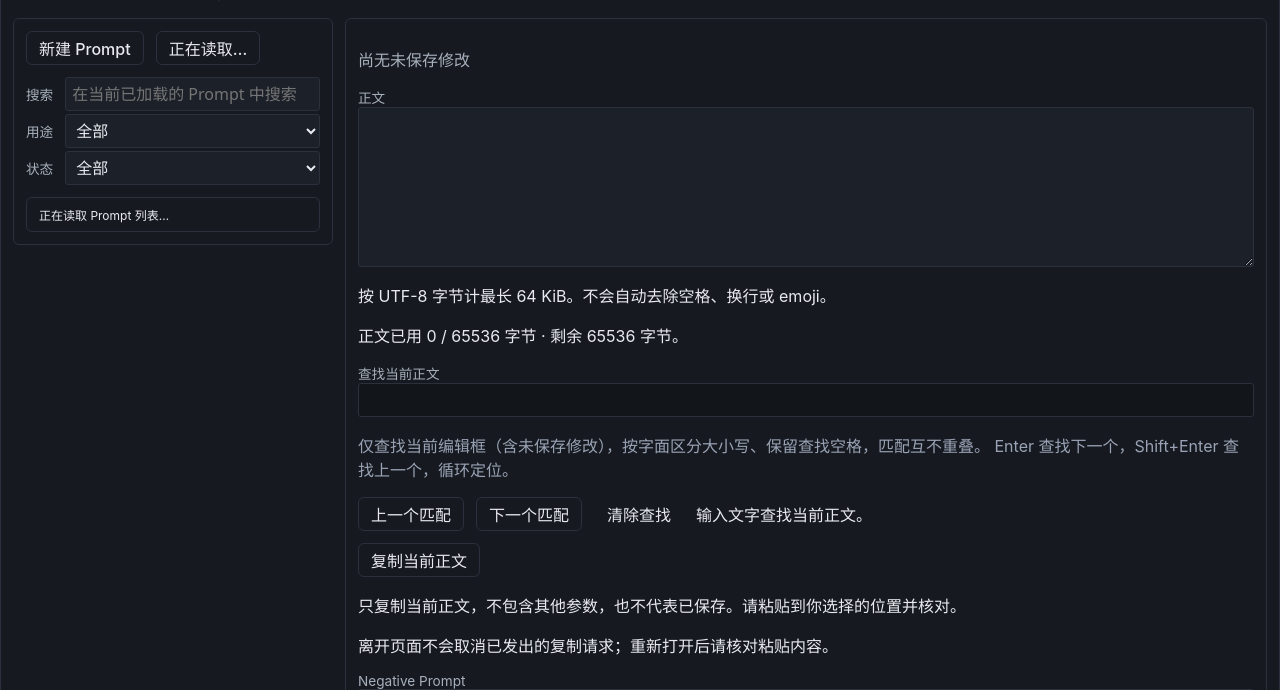
Test case: P0-C a read must not cancel a real save receipt › keeps the receipt when the user refreshes the library mid-save
Click the button "新建 Prompt" at [85, 48], box [26, 31, 144, 65]
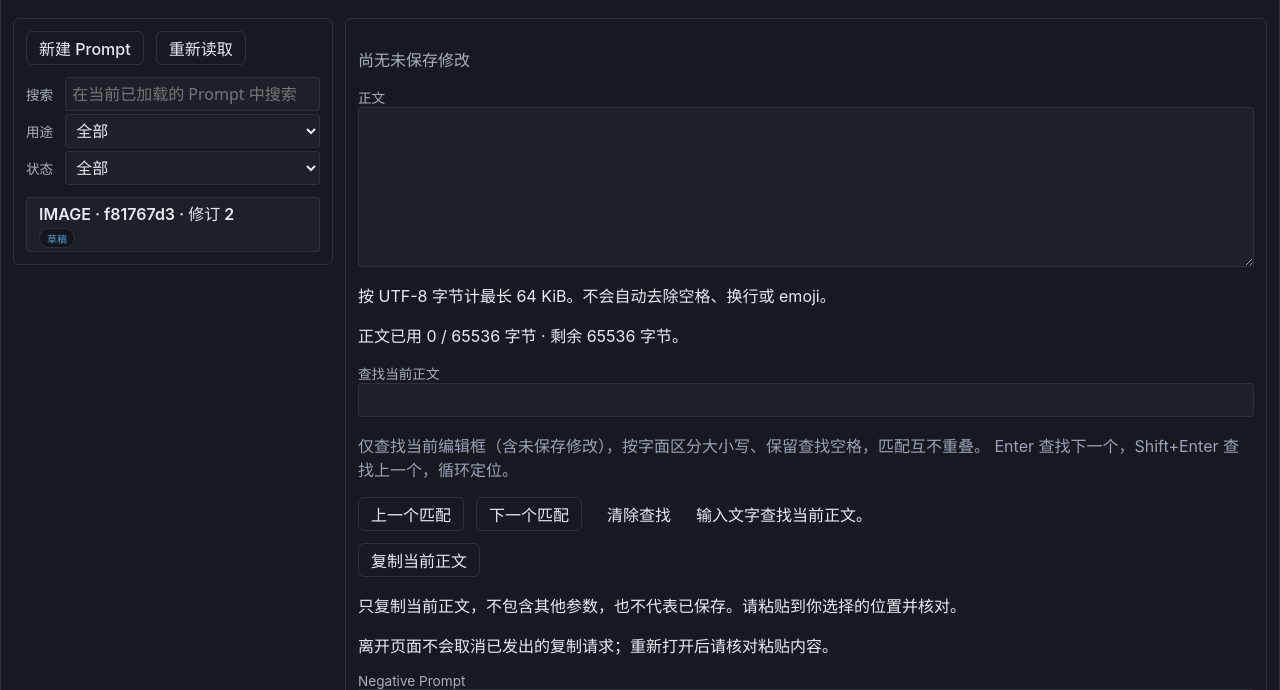
Type "交错保存的正文" into the text box labelled "正文" at [806, 187], box [358, 107, 1254, 267]
(page scrolled)
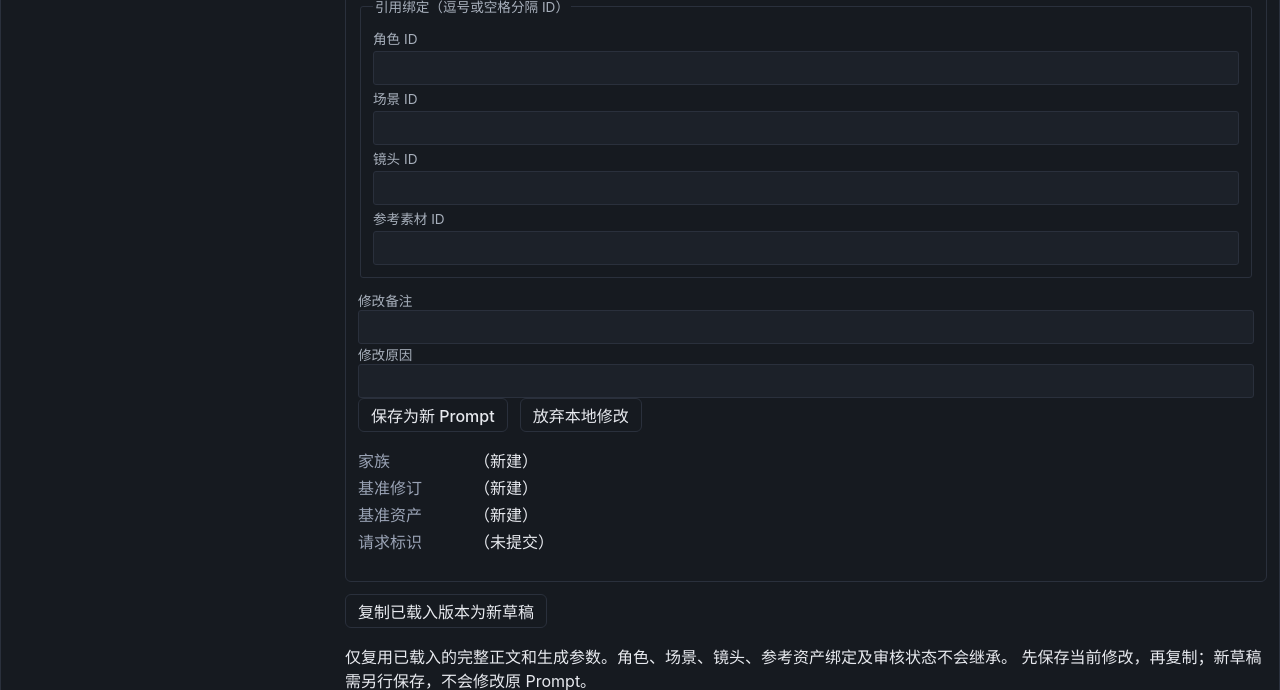
Click the button "保存为新 Prompt" at [433, 415], box [358, 398, 508, 432]
(page scrolled)
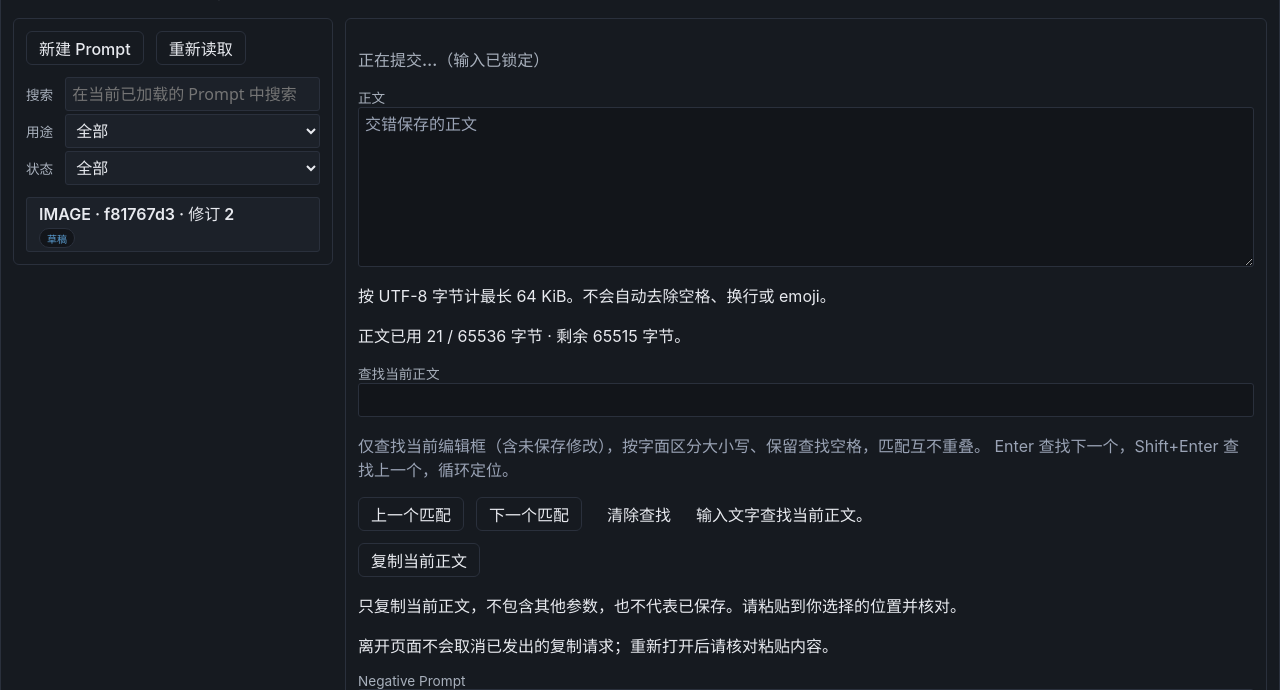
Click the button "重新读取" at [201, 48], box [156, 31, 246, 65]
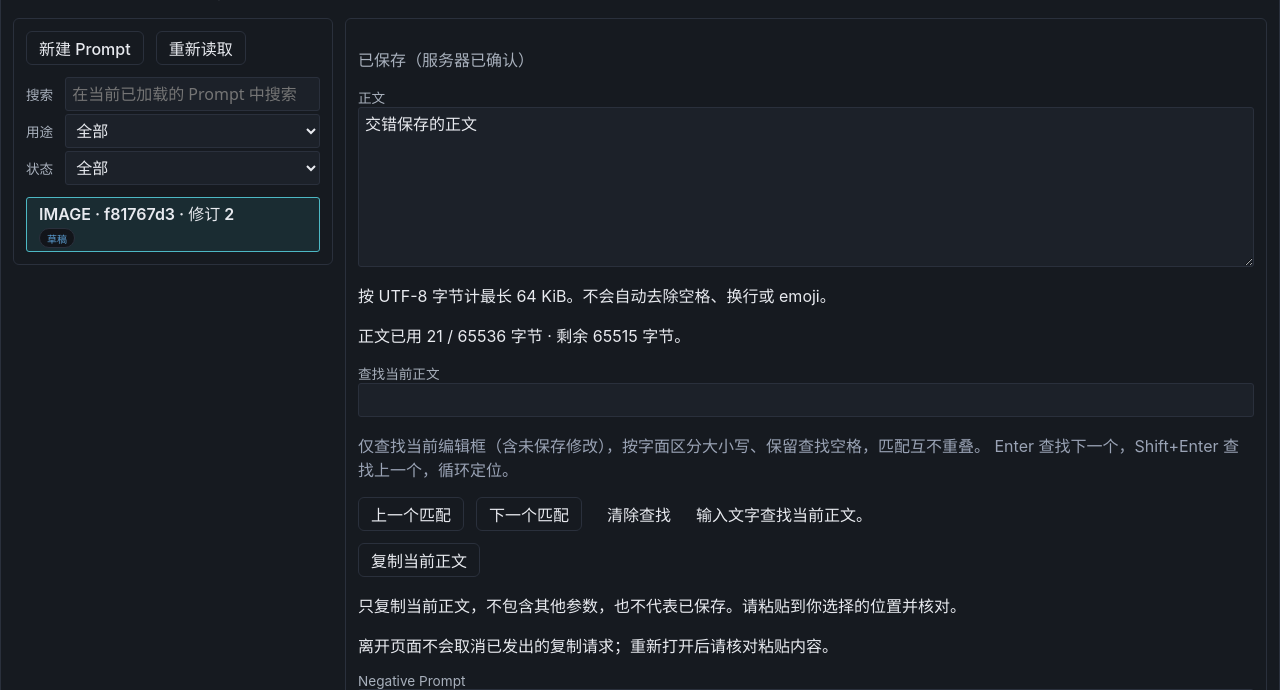
Expected: the text "已保存" is shown, [358, 50, 534, 70]
Expected: the text "正在提交" is gone
